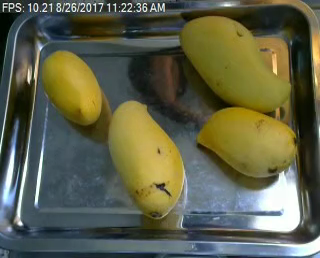Mango: (181, 14, 291, 114), (108, 100, 185, 218), (197, 107, 298, 178), (38, 51, 101, 127)
